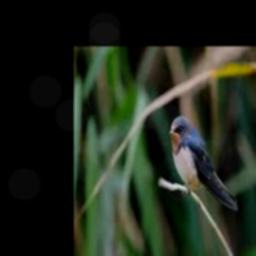Swallow: (170, 116, 240, 211)
